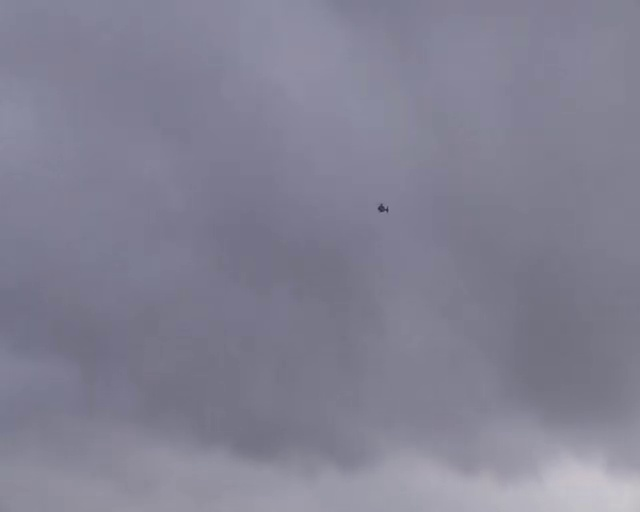HELICOPTER: (377, 202, 389, 213)
